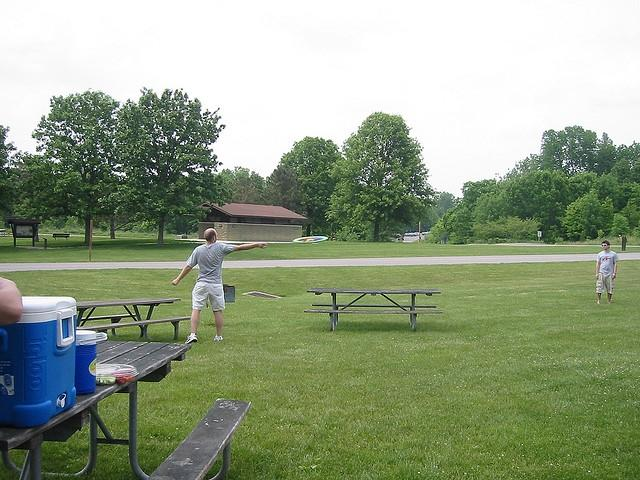tomato: (124, 374, 130, 378), (119, 379, 125, 383), (116, 372, 120, 374)
